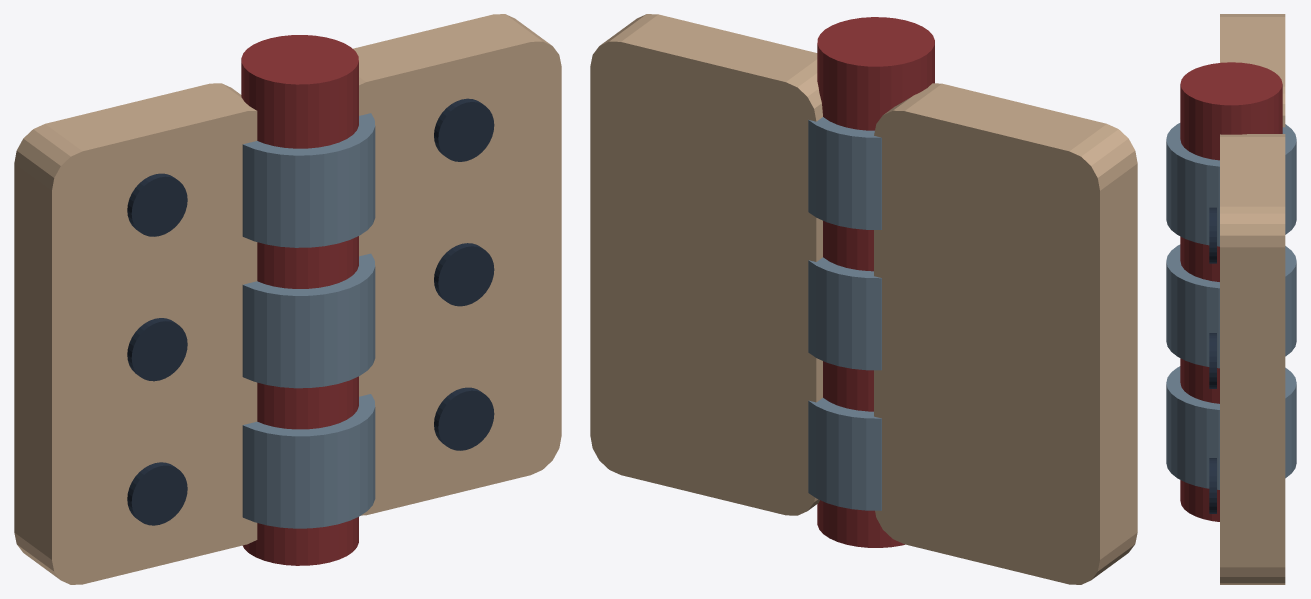
The model's file is hingeplate.glb.
3 views of the same model, side by side, from view 1: azimuth 30°, elevation 25°; view 2: azimuth 150°, elevation 25°; view 3: azimuth 270°, elevation 25° (orthographic). The views are drawn at different scales.
Parts seen in each view (by area): view 1: leaf-1, leaf1, pin, fixing hole (×6), knuckle0.24, knuckle0.94, knuckle0.59; view 2: leaf-1, leaf1, pin, knuckle0.24, knuckle0.59, knuckle0.94; view 3: leaf1, pin, knuckle0.24, knuckle0.59, knuckle0.94, leaf-1, fixing hole (×3).
Part boxes in pixels (x1,y1,x2,y2): leaf-1: (14, 83, 257, 584); leaf1: (353, 14, 561, 515); pin: (241, 35, 358, 565); fixing hole (×6): (127, 98, 494, 525); knuckle0.24: (242, 394, 375, 528); knuckle0.94: (242, 113, 375, 247); knuckle0.59: (242, 253, 375, 388); leaf-1: (874, 83, 1137, 584); leaf1: (590, 14, 822, 515); pin: (817, 17, 934, 547); knuckle0.24: (808, 398, 881, 510); knuckle0.59: (808, 257, 881, 370); knuckle0.94: (808, 117, 881, 229); leaf1: (1220, 134, 1285, 584); pin: (1180, 62, 1282, 521); knuckle0.24: (1166, 366, 1296, 489); knuckle0.59: (1166, 244, 1296, 368); knuckle0.94: (1166, 123, 1296, 246); leaf-1: (1220, 14, 1285, 127); fixing hole (×3): (1209, 207, 1216, 513).
Size of the model in its own units: 1.33 by 1.2 by 0.34.
